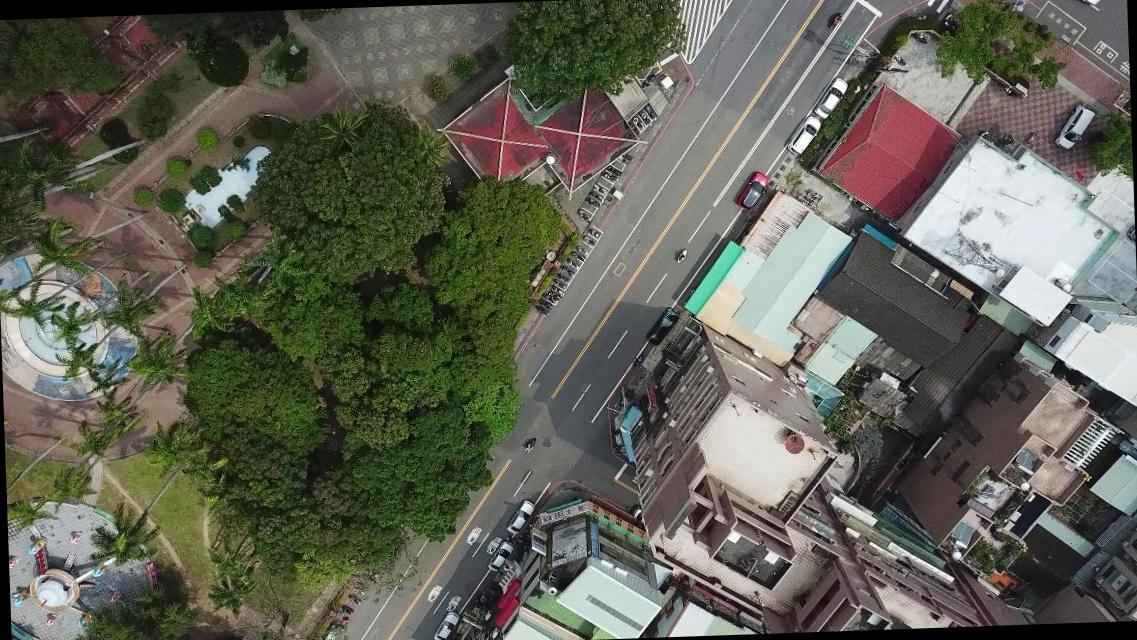vehicle: (1052, 104, 1096, 150), (733, 170, 770, 212), (783, 114, 821, 154), (812, 77, 849, 118), (644, 307, 680, 345), (504, 499, 536, 534), (485, 540, 514, 572), (431, 610, 461, 639), (1054, 0, 1105, 9), (630, 506, 642, 521)
